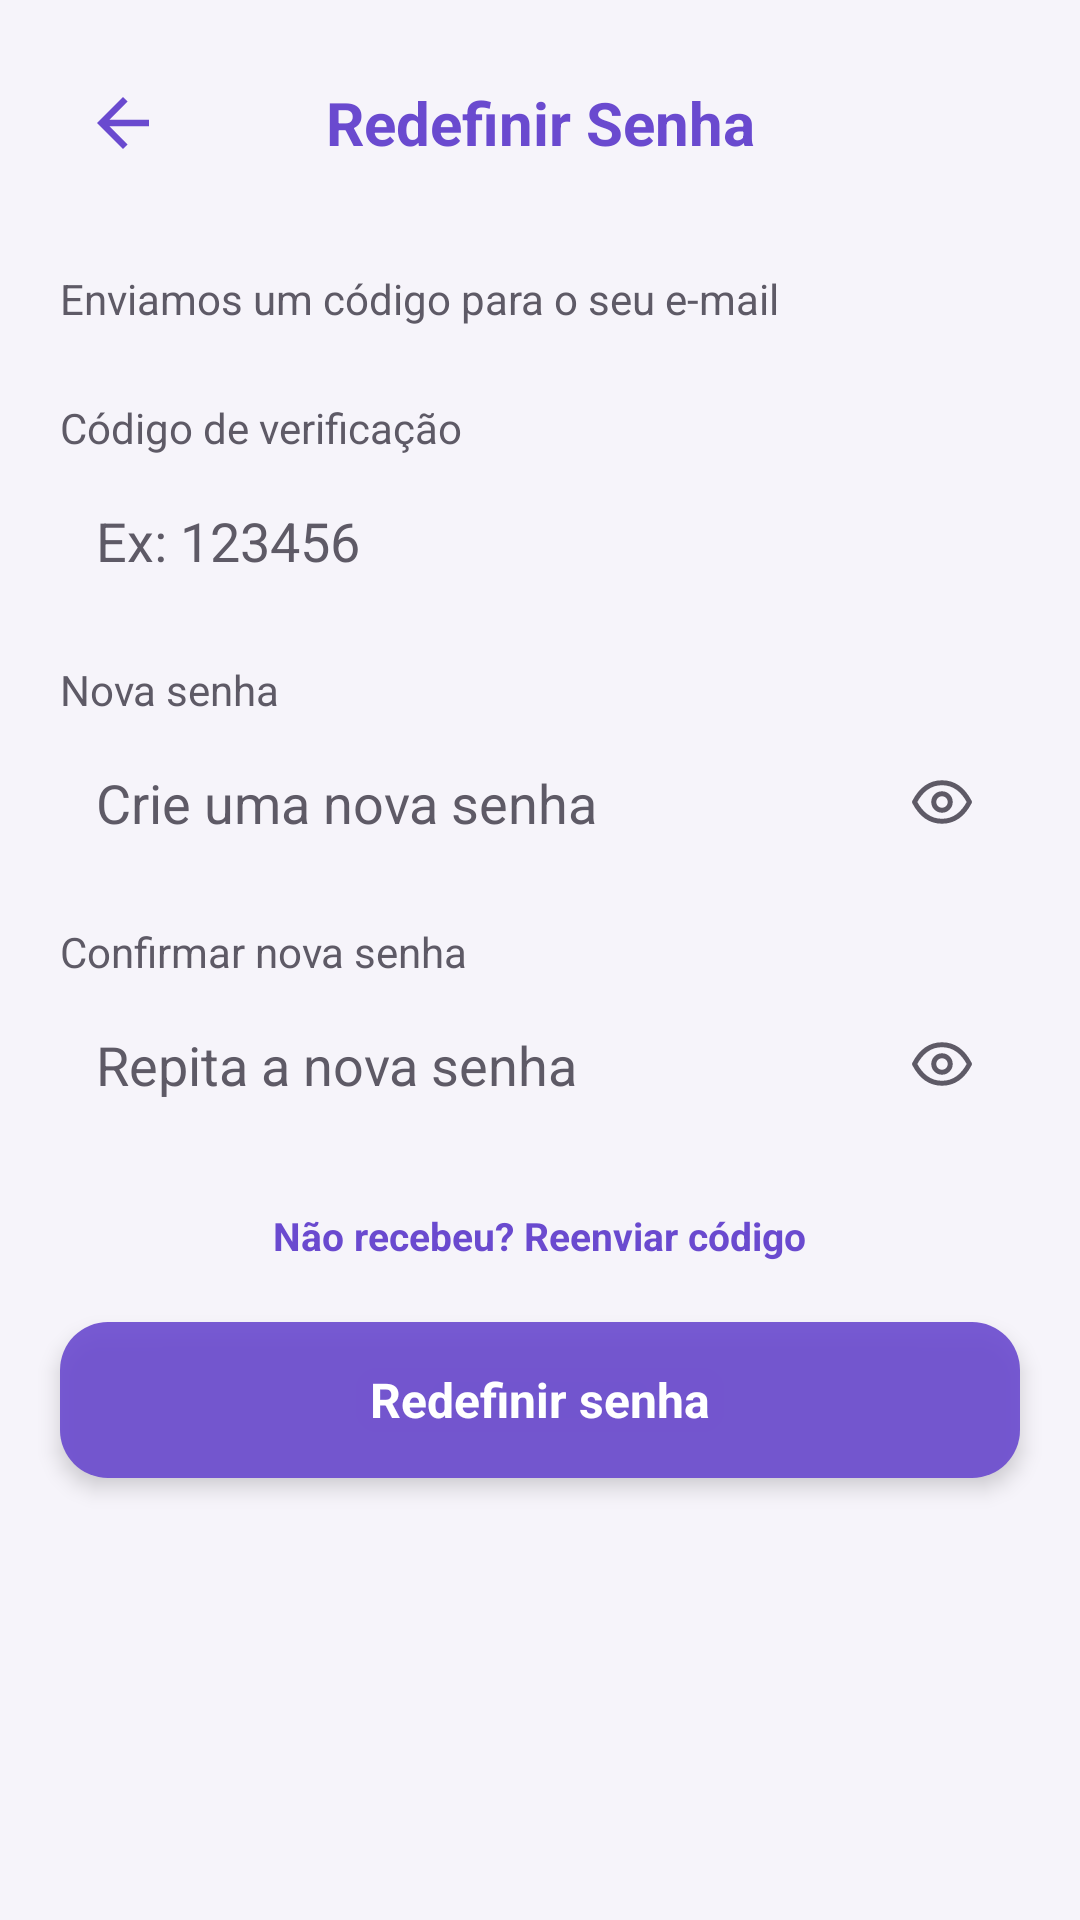

Icons on this 1080*1920 Android screen, each with its box as (x1, y1, x2, y2):
back: (97, 97, 149, 149)
Mostrar senha: (912, 780, 972, 824), (912, 1042, 972, 1086)
